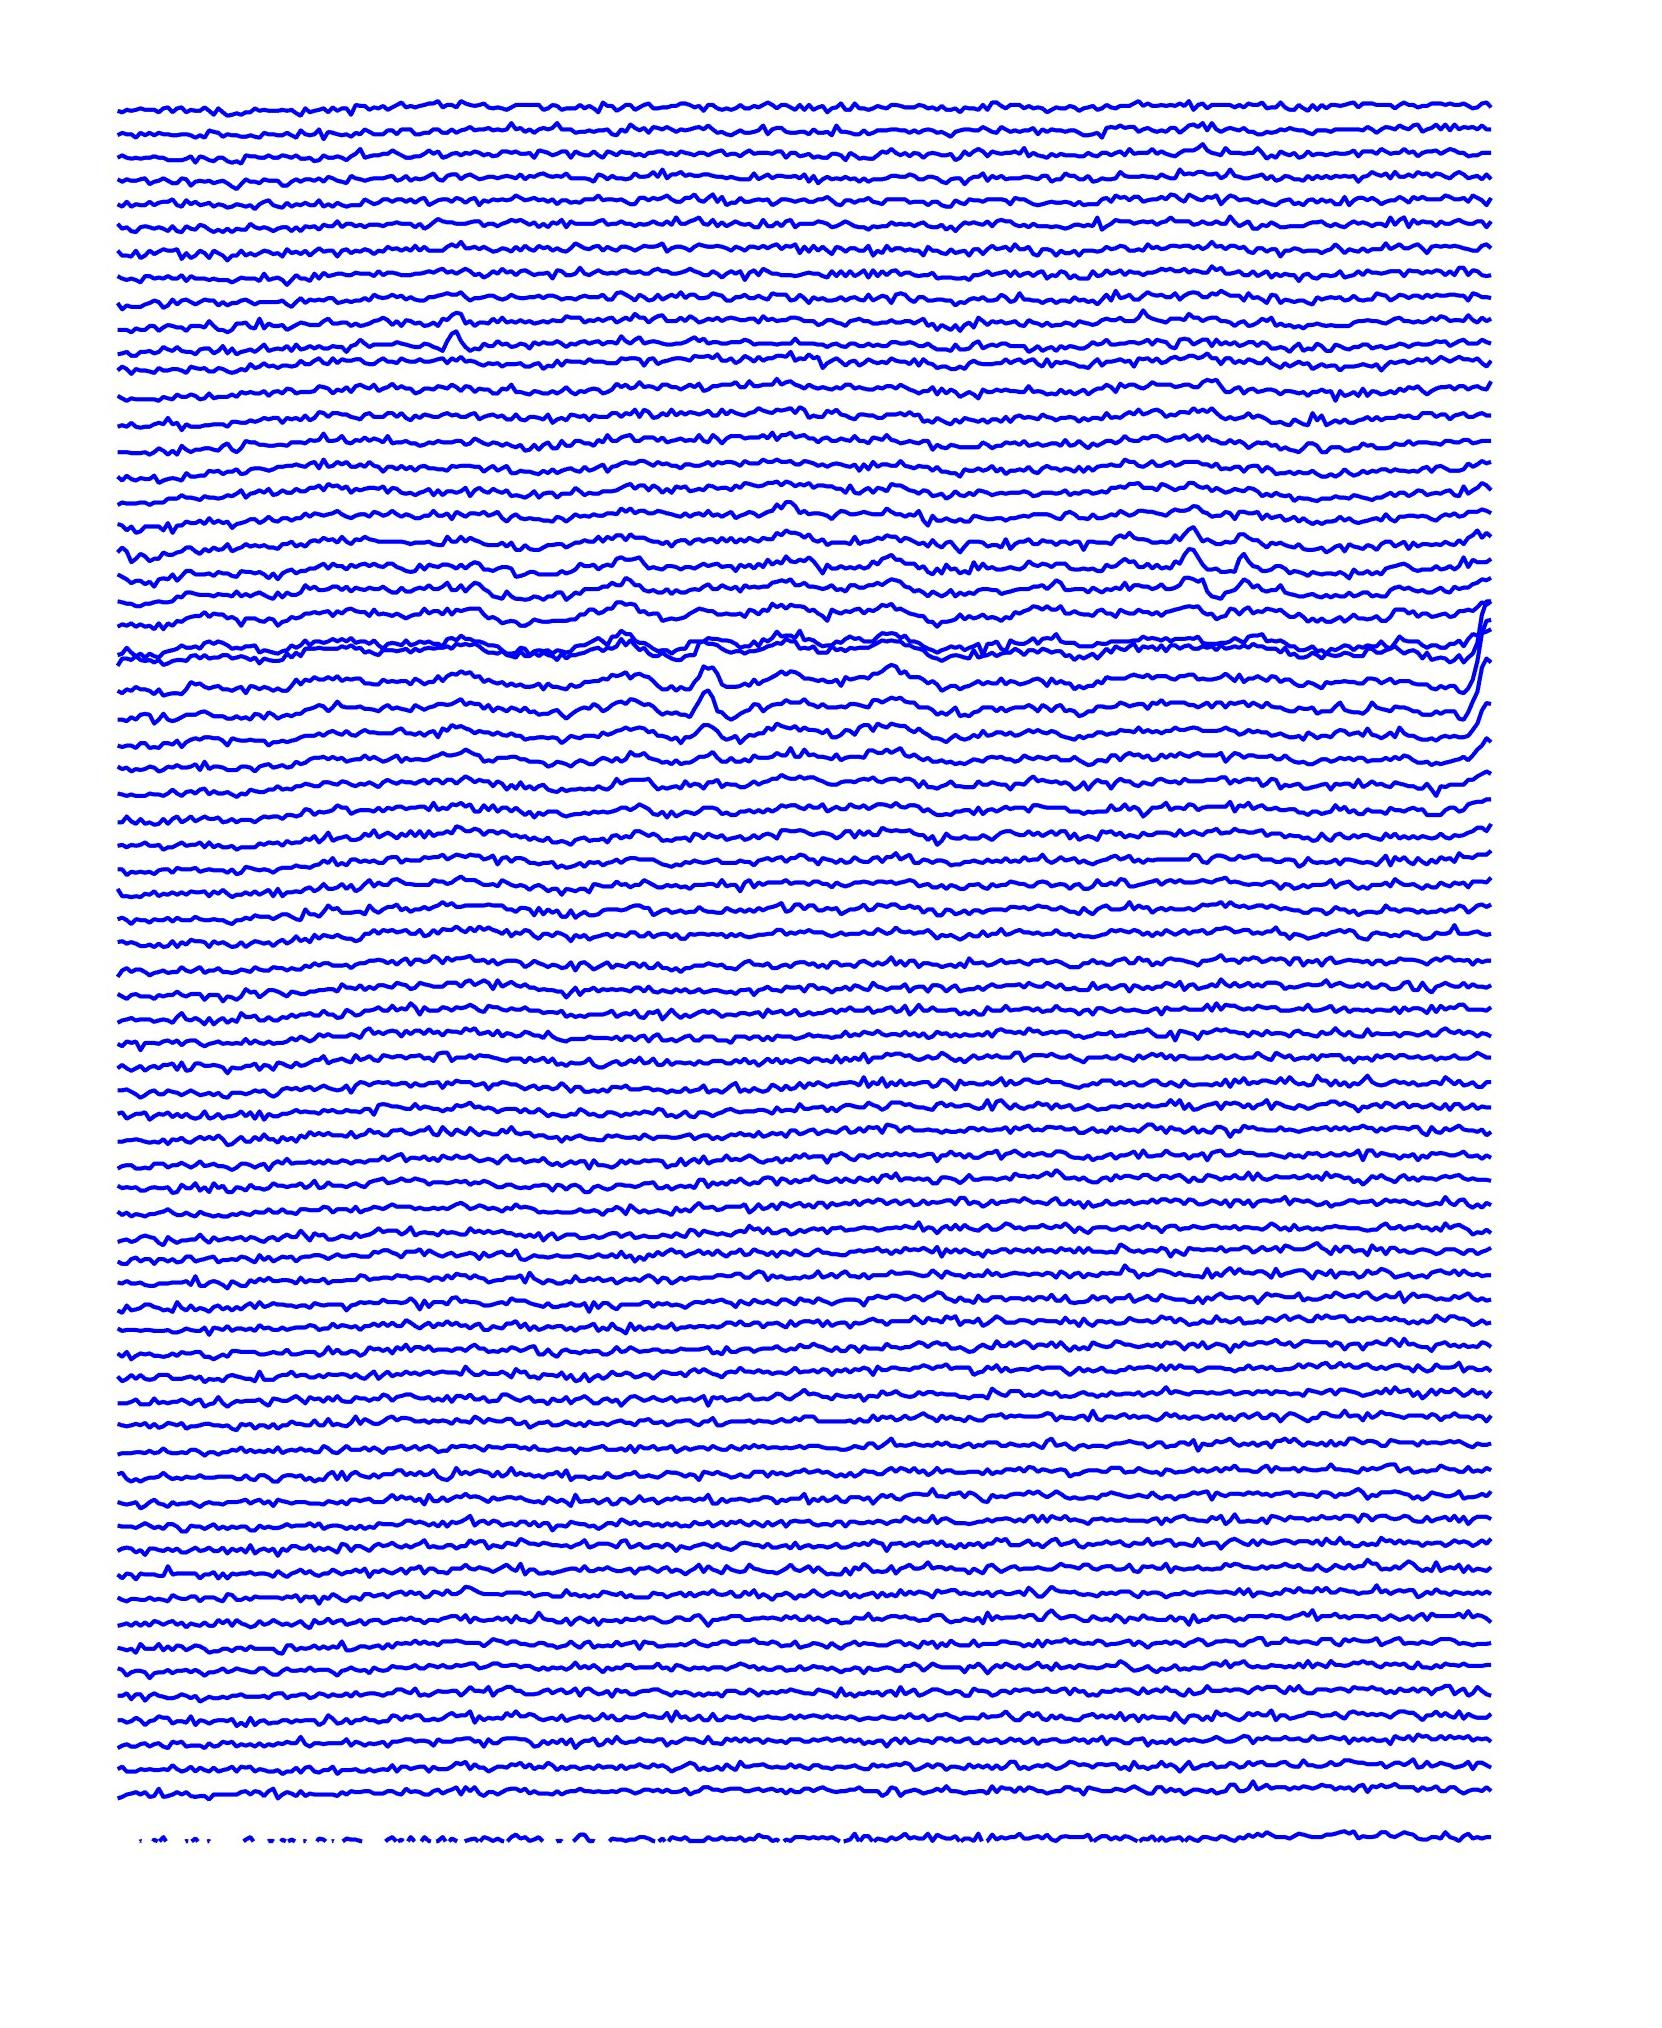defect: (1160, 492, 1265, 616), (1431, 584, 1489, 765), (680, 643, 732, 741)
